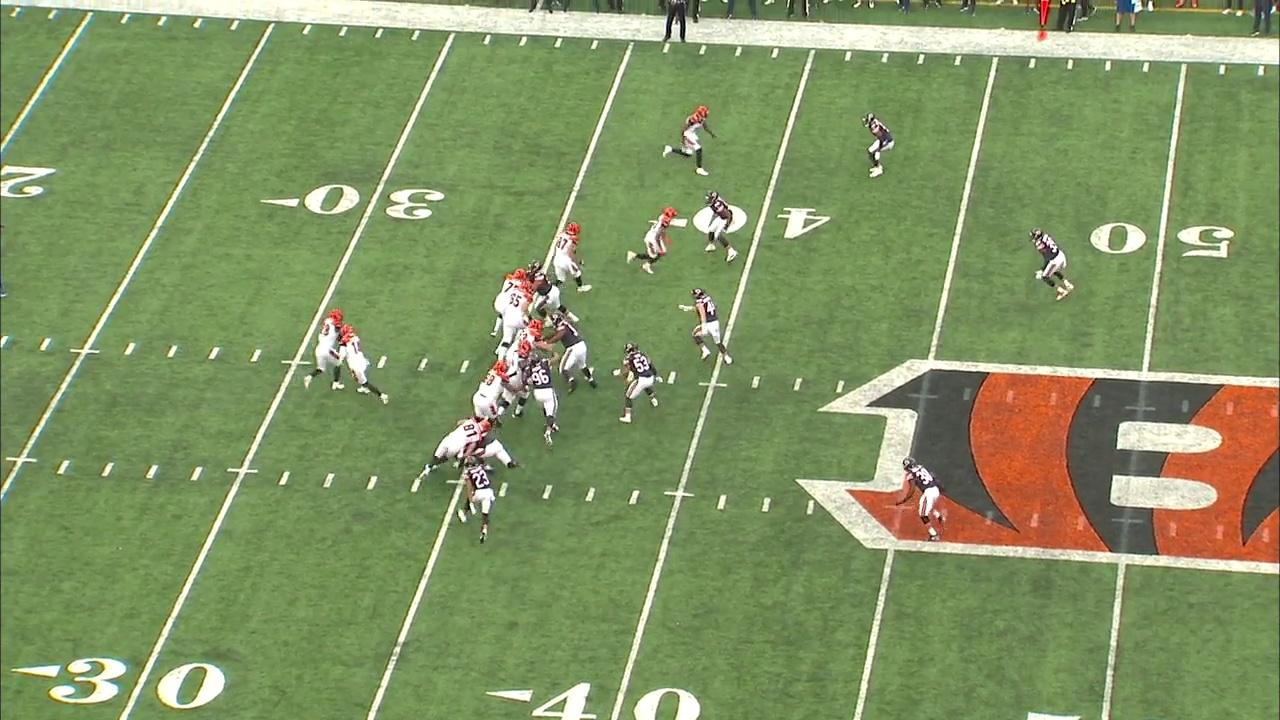five_hash: (68, 346, 101, 356), (226, 467, 259, 475), (661, 490, 694, 498), (697, 381, 729, 389), (6, 457, 38, 464), (281, 359, 311, 366)
hash: (141, 462, 160, 482), (320, 469, 336, 491), (205, 345, 223, 363), (247, 347, 264, 366), (99, 460, 116, 479), (364, 473, 381, 492), (626, 488, 643, 507), (714, 492, 731, 511), (583, 484, 599, 504), (164, 342, 180, 361), (55, 458, 71, 477), (277, 469, 293, 488), (415, 355, 431, 373), (189, 464, 205, 482), (36, 335, 52, 352), (122, 340, 138, 357), (456, 359, 473, 375), (748, 374, 765, 390), (540, 483, 555, 501), (759, 495, 774, 513), (803, 498, 818, 516), (496, 481, 511, 498), (375, 354, 389, 371), (791, 376, 805, 393), (833, 378, 847, 394), (665, 370, 679, 385), (0, 336, 11, 349)
number: (10, 652, 234, 712), (255, 181, 449, 227), (1083, 217, 1242, 266)
